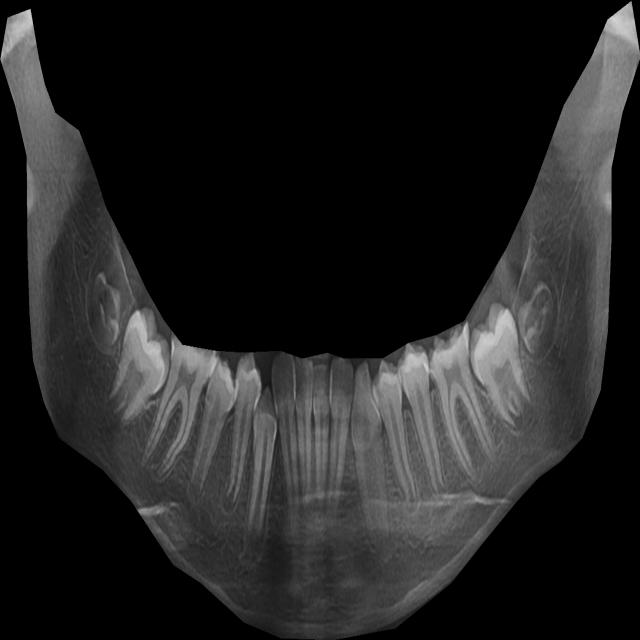mandibula: (0, 1, 640, 640)
